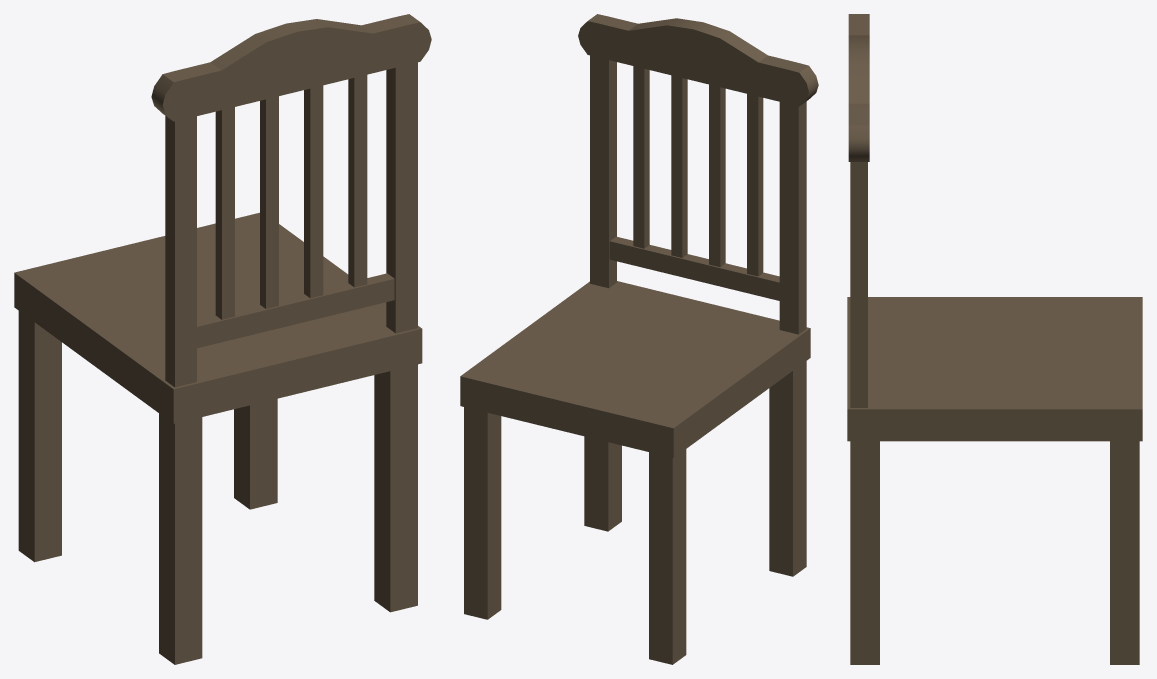
Rendered from Chair_SM.fbx.
3 renders of one model, left to right at view 1: azimuth 30°, elevation 25°; view 2: azimuth 150°, elevation 25°; view 3: azimuth 270°, elevation 25°, orthographic. The views are drawn at different scales.
Parts seen in each view (by area): view 1: Chair; view 2: Chair; view 3: Chair.
Boxes of the visible parts, x1,y1,x2,y2 form: Chair: (14, 14, 431, 664); Chair: (460, 14, 818, 664); Chair: (847, 14, 1142, 664).
Size of the model in its own units: 48.72 by 104 by 50.
